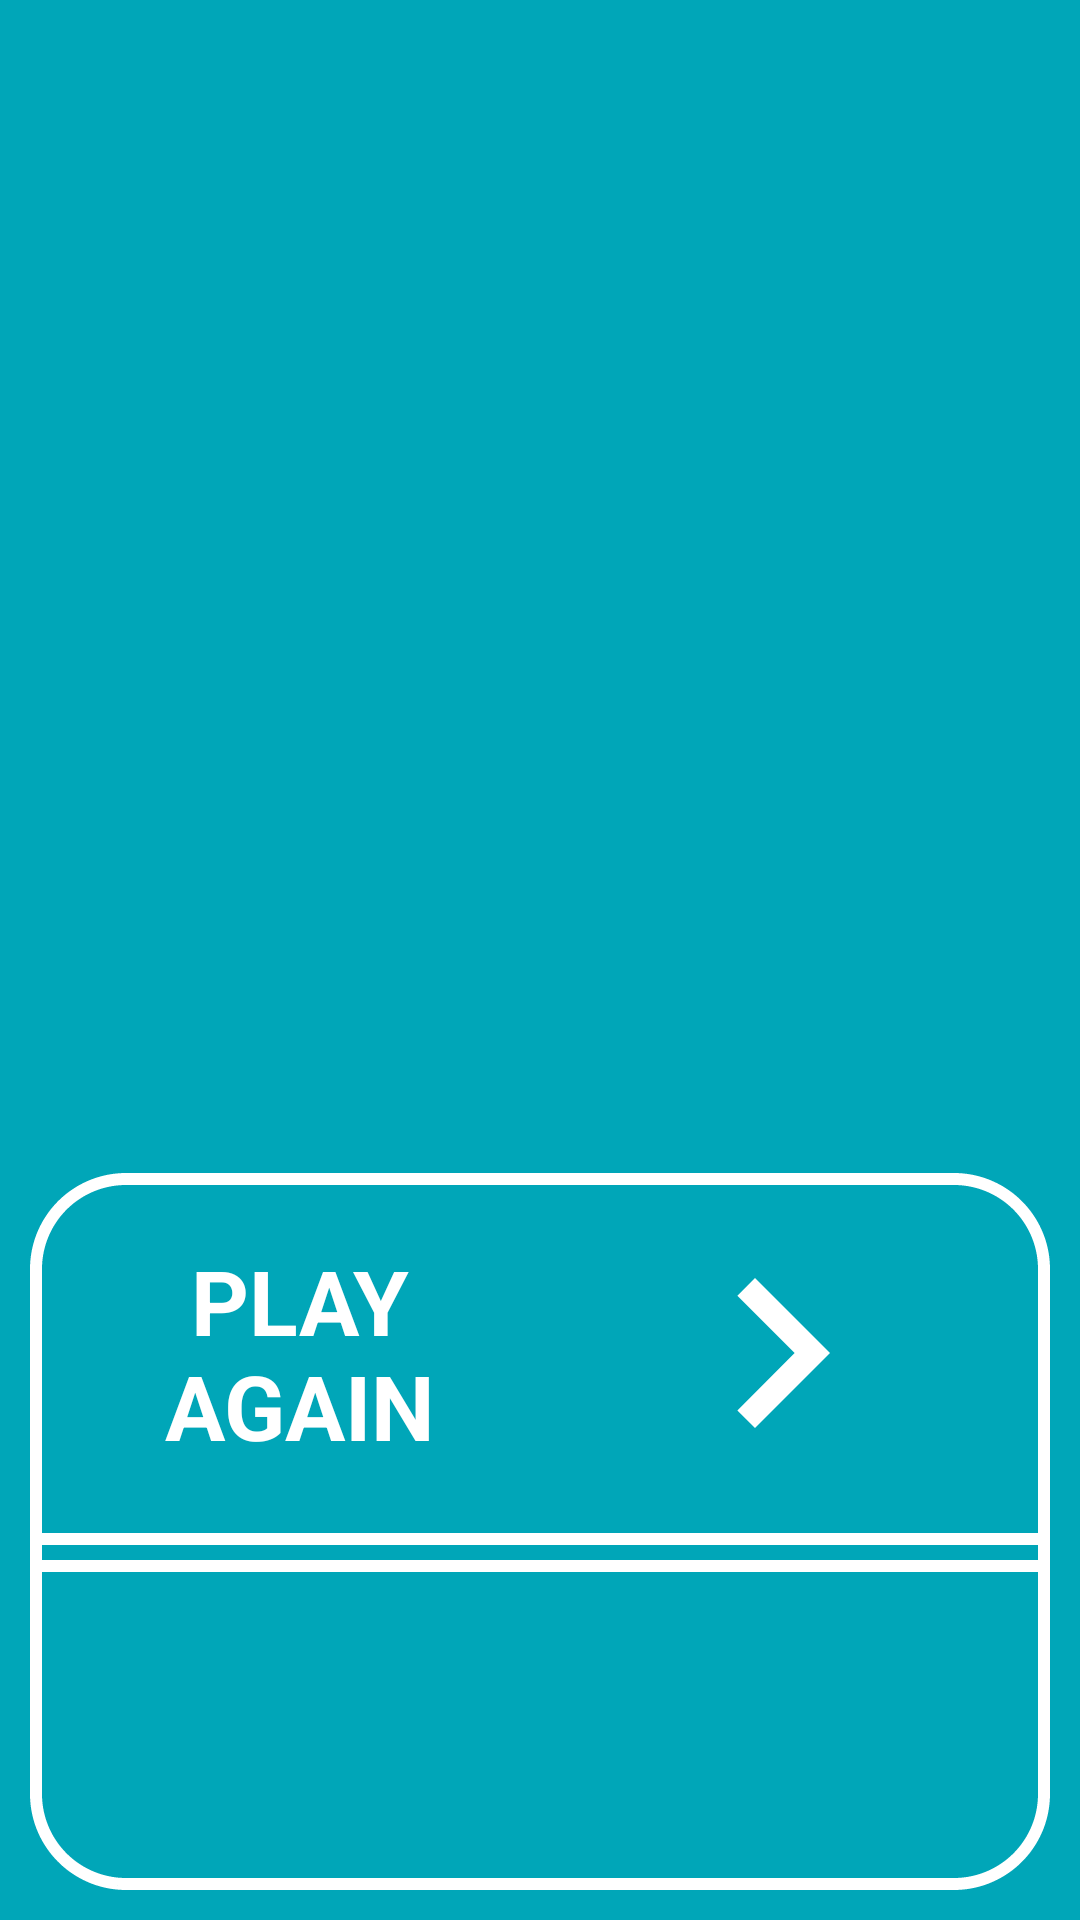

Locate icon controls on the screen. Image size 1080 x 1920, boxes as BBox(x1, y1, x2, y2).
navigate next: BBox(737, 1278, 830, 1428)
